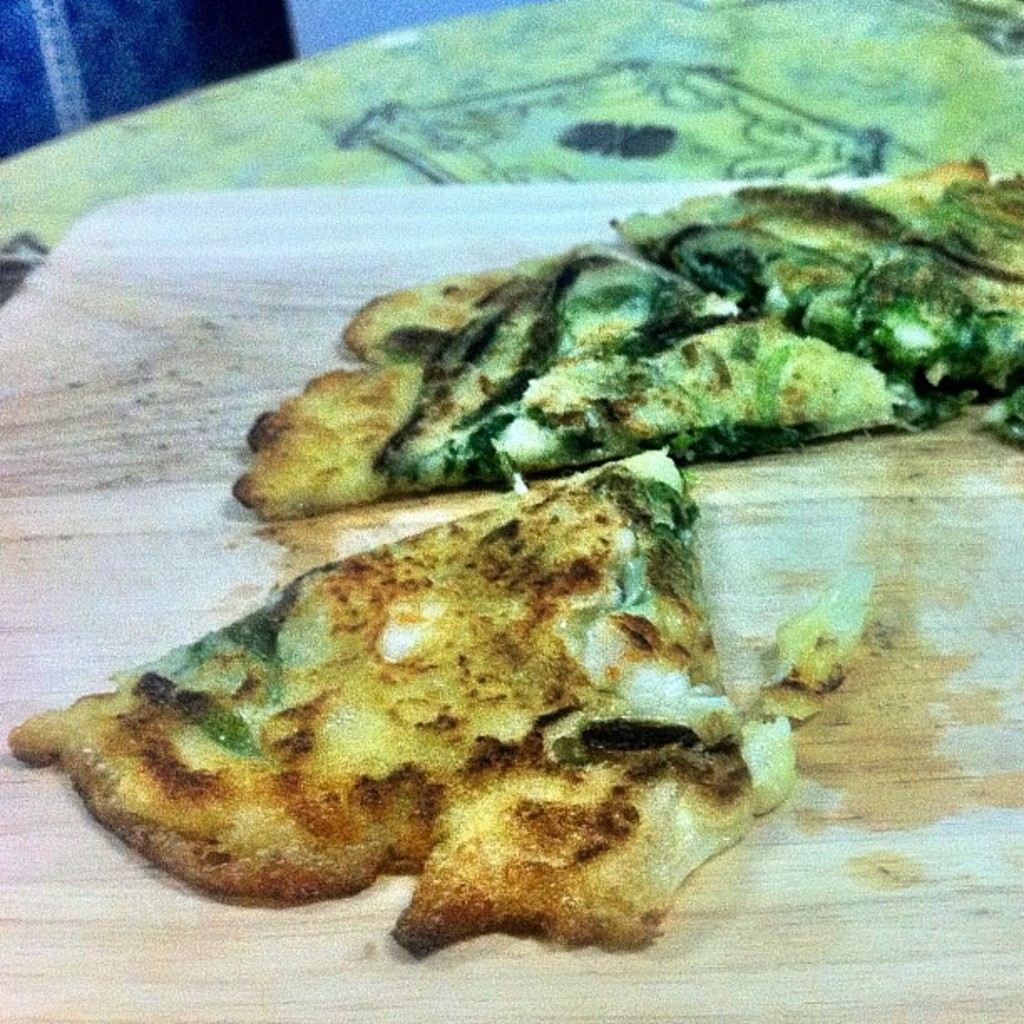Pizza: (16, 446, 799, 962), (235, 230, 918, 491), (595, 160, 1022, 404)
